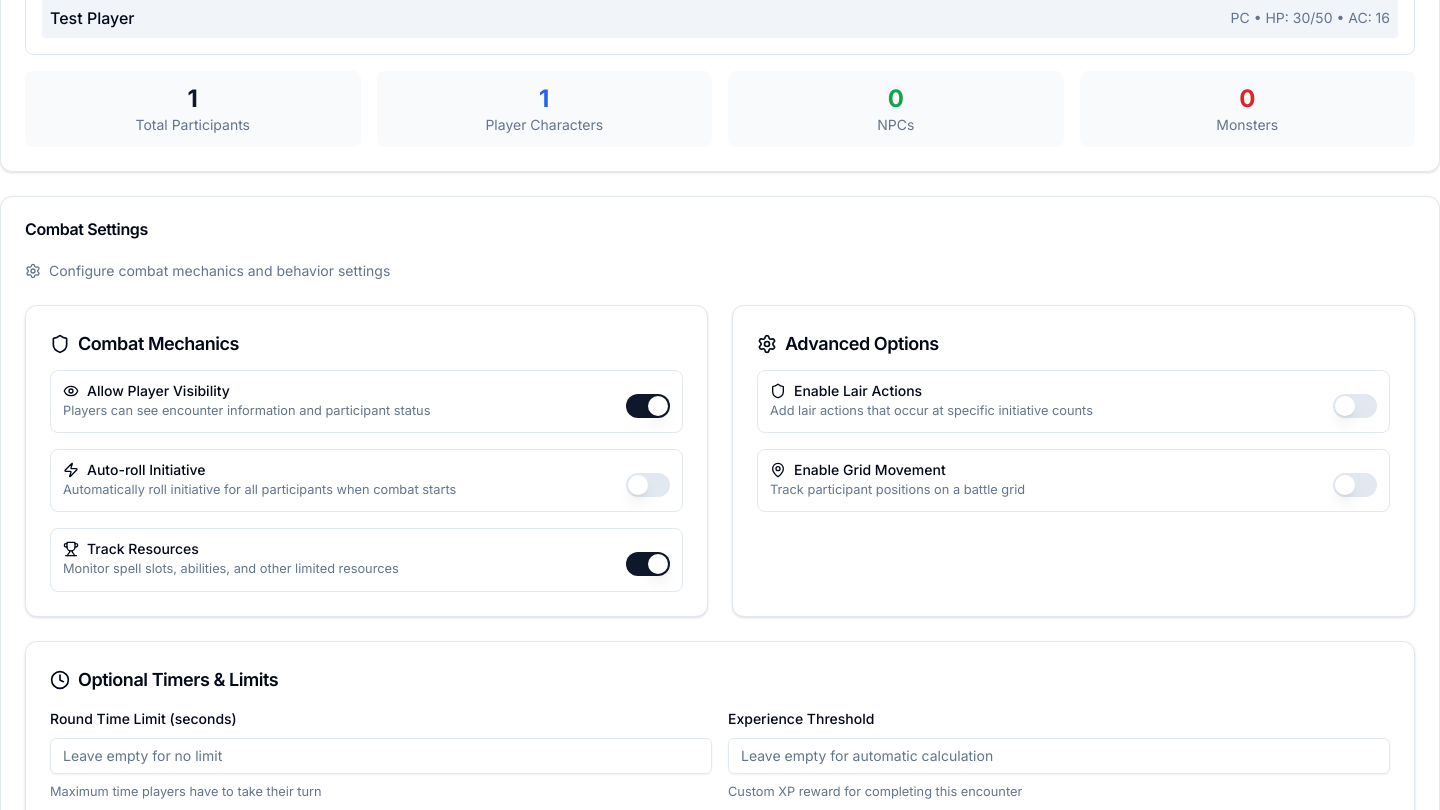
Scenario: EncounterEditForm › Settings Section › should show conditional lair action settings
(page scrolled)
Click the switch named "Enable Lair Actions" in the row of "Enable Lair Actions".
click(1355, 406)  # box [1333,394,1377,418]
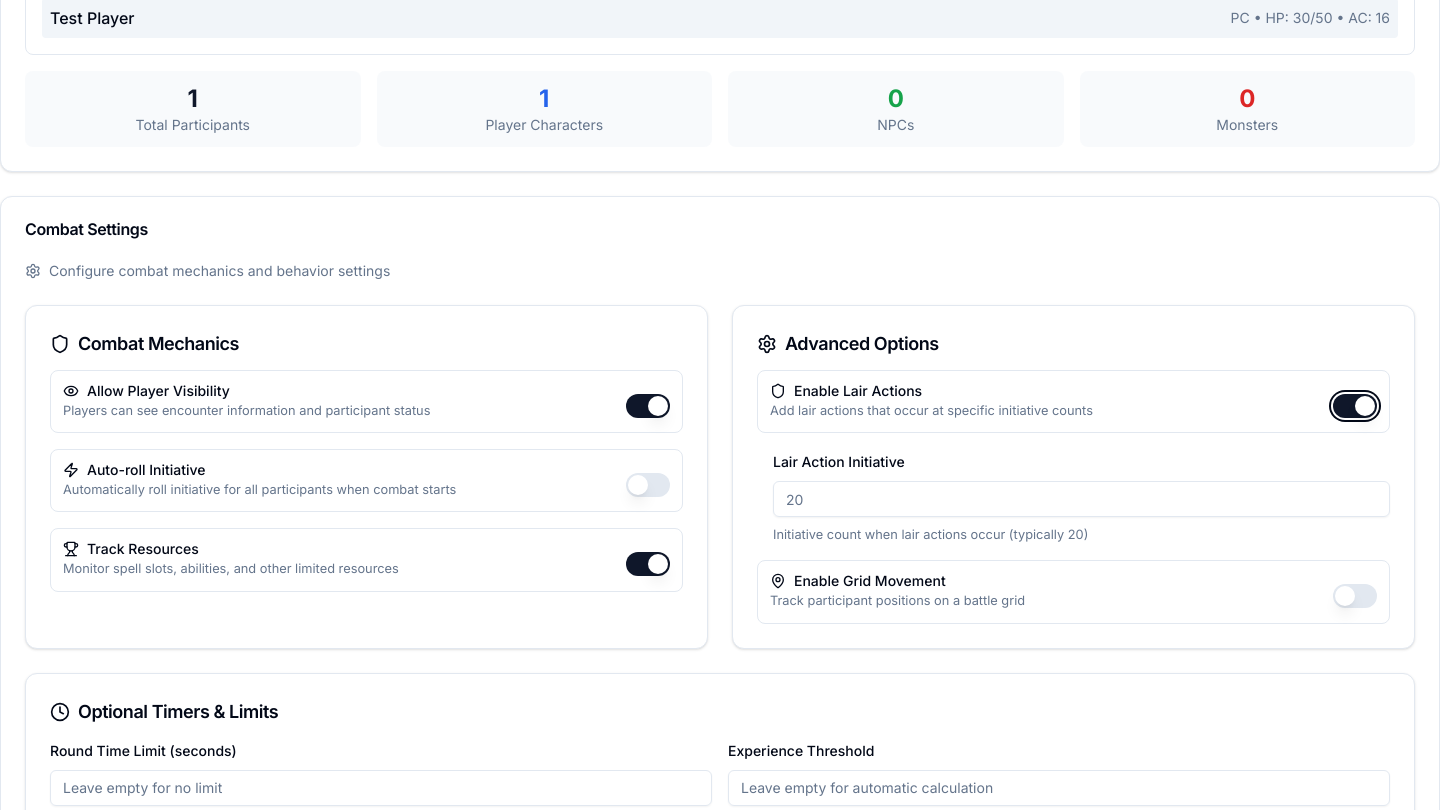
Expected: the number field labelled "Lair Action Initiative" is shown, [773,481,1390,517]
